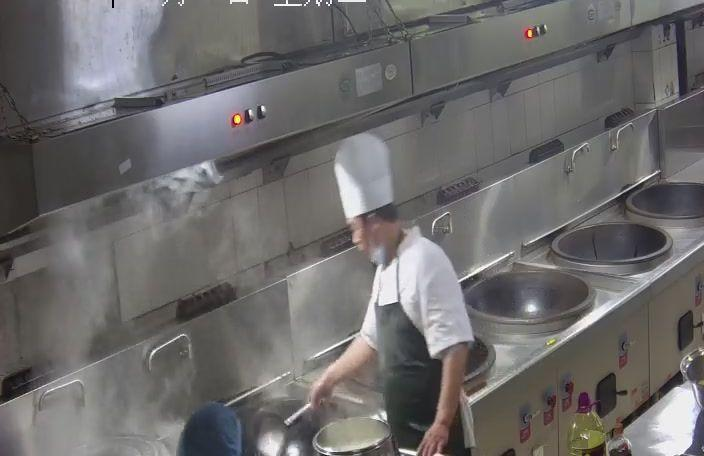mask: (354, 234, 385, 266)
